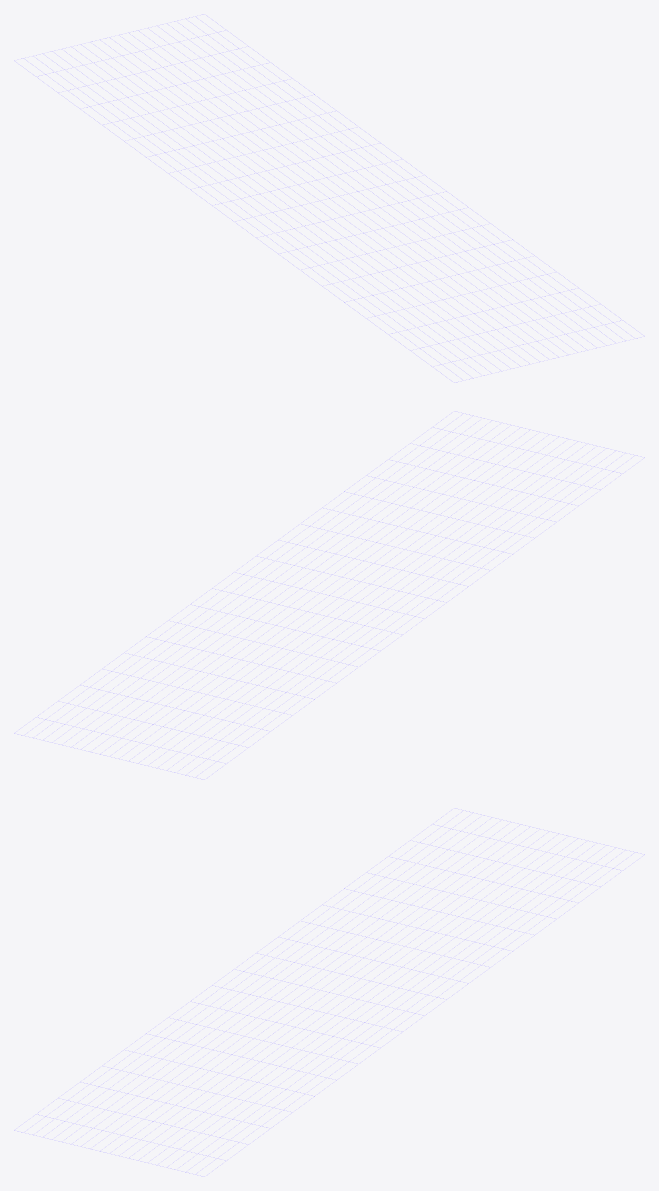
File: floor-grid.fbx
3 views of the same model, one above another, from view 1: azimuth 30°, elevation 25°; view 2: azimuth 150°, elevation 25°; view 3: azimuth 330°, elevation 25° (orthographic).
Parts seen in each view (by area): view 1: Plane; view 2: Plane; view 3: Plane.
Boxes of the visible parts, x1,y1,x2,y2 form: Plane: (14, 14, 644, 382); Plane: (14, 411, 644, 779); Plane: (14, 808, 644, 1176).
Size of the model in its own units: 2502 by 2 by 10002.
